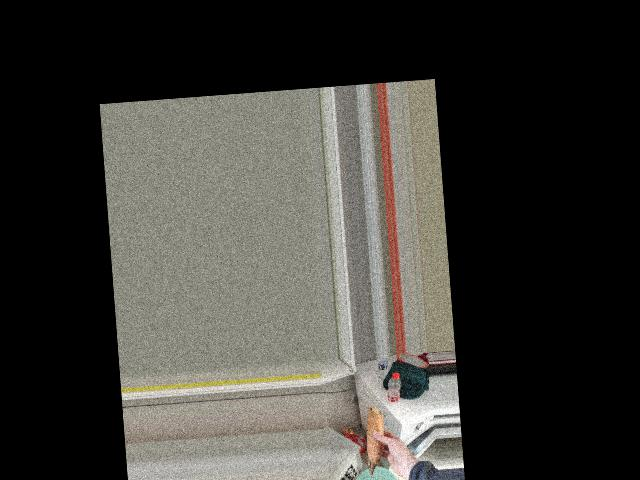sweet_potato: (359, 402, 392, 476)
